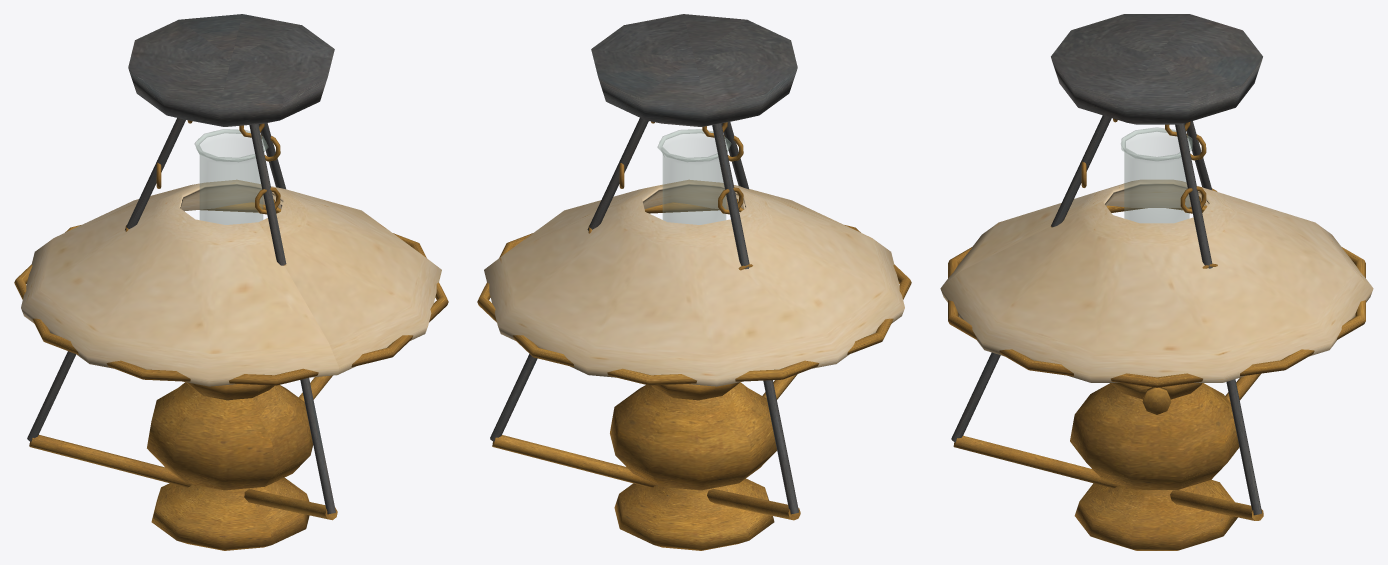
The model's file is city1880-shop-pendant-unlit.gltf.
3 renders of one model, left to right at view 1: azimuth 30°, elevation 25°; view 2: azimuth 150°, elevation 25°; view 3: azimuth 270°, elevation 25°, orthographic.
Parts seen in each view (by area): view 1: Hanging kerosene shop lamp · unlit; view 2: Hanging kerosene shop lamp · unlit; view 3: Hanging kerosene shop lamp · unlit.
Boxes of the visible parts, box(x1,y1,x2,y2) form: Hanging kerosene shop lamp · unlit: box(14, 14, 448, 550); Hanging kerosene shop lamp · unlit: box(477, 14, 911, 550); Hanging kerosene shop lamp · unlit: box(940, 14, 1373, 550).
Size of the model in its own units: 0.55 by 0.646 by 0.542.
Materials: 2 (1 with a texture image).
